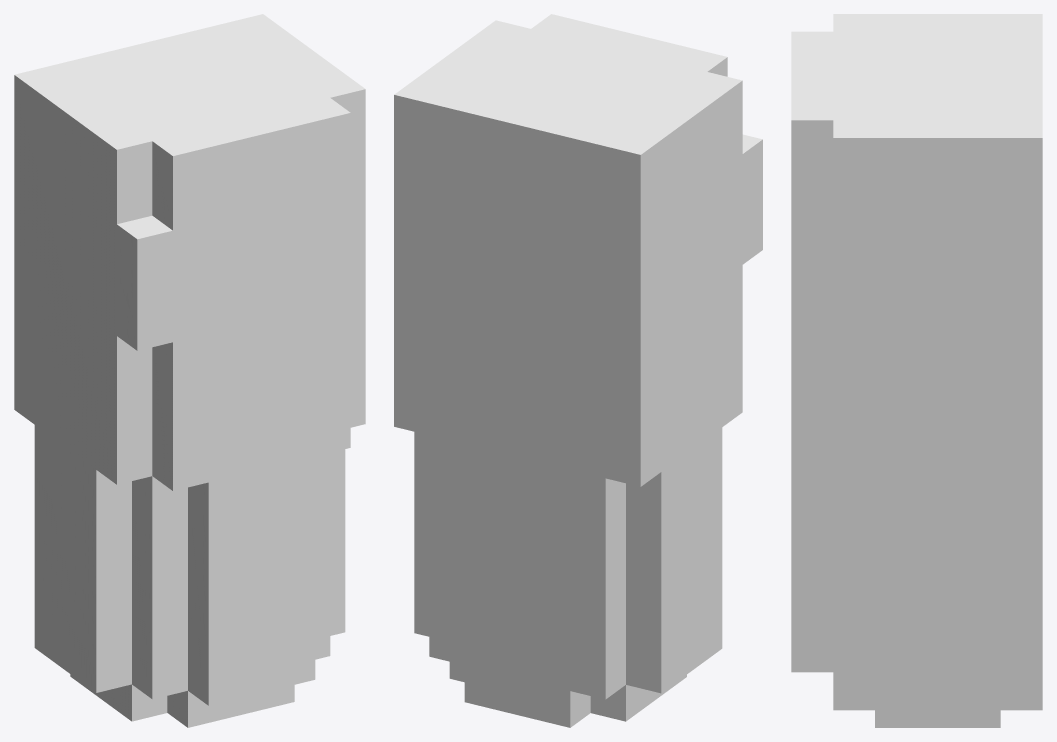
File: noga_2.dae
3 views of the same model, side by side, from view 1: azimuth 30°, elevation 25°; view 2: azimuth 150°, elevation 25°; view 3: azimuth 270°, elevation 25° (orthographic). The views are drawn at different scales.
Visible parts, largest first — view 1: Content; view 2: Content; view 3: Content.
Part boxes in pixels (x1,y1,x2,y2): Content: [14, 14, 365, 727]; Content: [394, 14, 762, 727]; Content: [791, 14, 1042, 727].
Bounding box in the file's own units: 7 × 16 × 6.
1 material, 1 textured.
